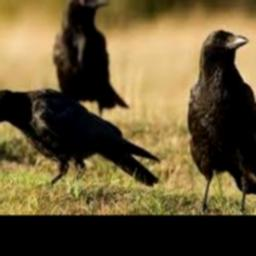Crow: (0, 88, 160, 188), (187, 29, 256, 213), (54, 0, 129, 120)
